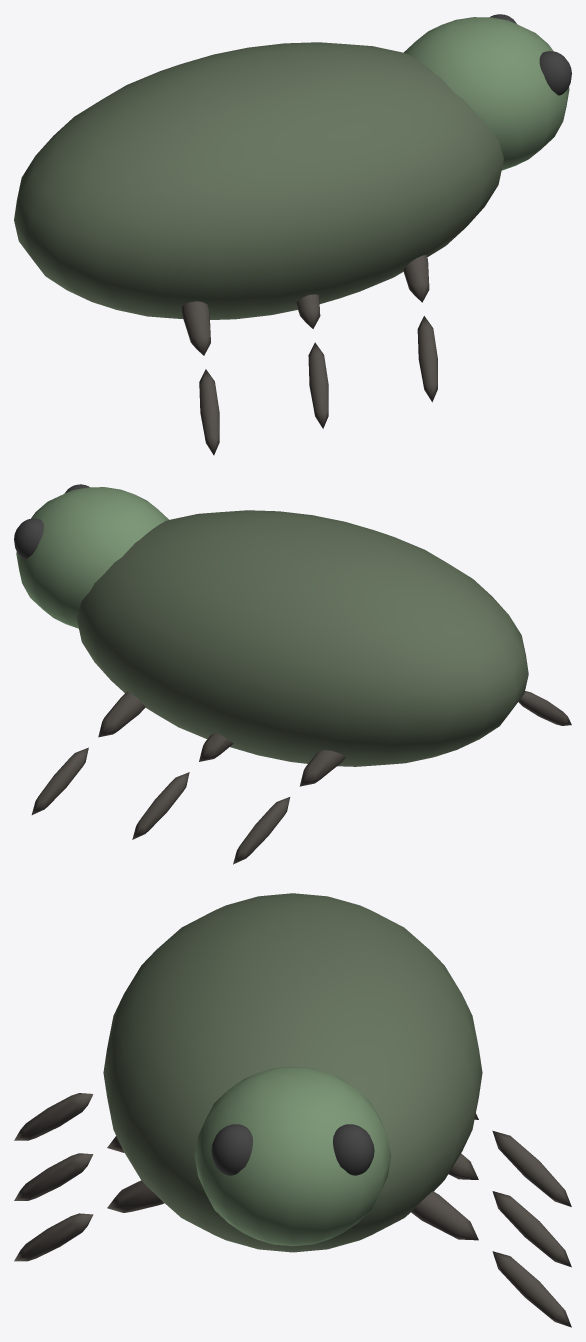
File: beetle.glb
3 renders of one model, top to bottom at view 1: azimuth 30°, elevation 25°; view 2: azimuth 150°, elevation 25°; view 3: azimuth 270°, elevation 25°, orthographic. The views are drawn at different scales.
Parts seen in each view (by area): view 1: org_beetle; view 2: org_beetle; view 3: org_beetle.
Part boxes in pixels (<box>): org_beetle: <box>14,14,571,455</box>; org_beetle: <box>14,484,571,864</box>; org_beetle: <box>14,893,571,1327</box>.
Bounding box in the file's own units: 0.1704 × 0.078 × 0.137.
